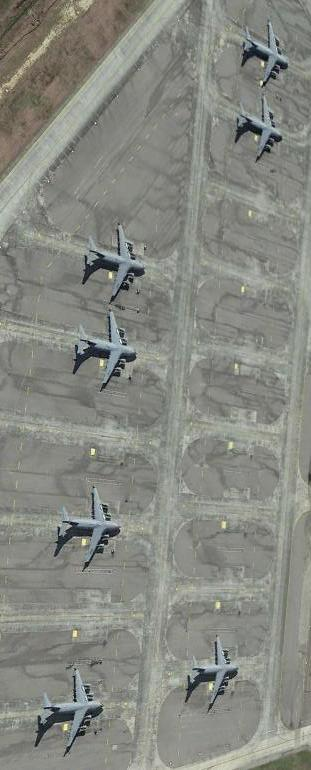C-17: (38, 664, 107, 749), (53, 483, 125, 563), (81, 224, 151, 301), (74, 313, 143, 384), (183, 638, 241, 711), (232, 96, 290, 156), (238, 22, 292, 85)
